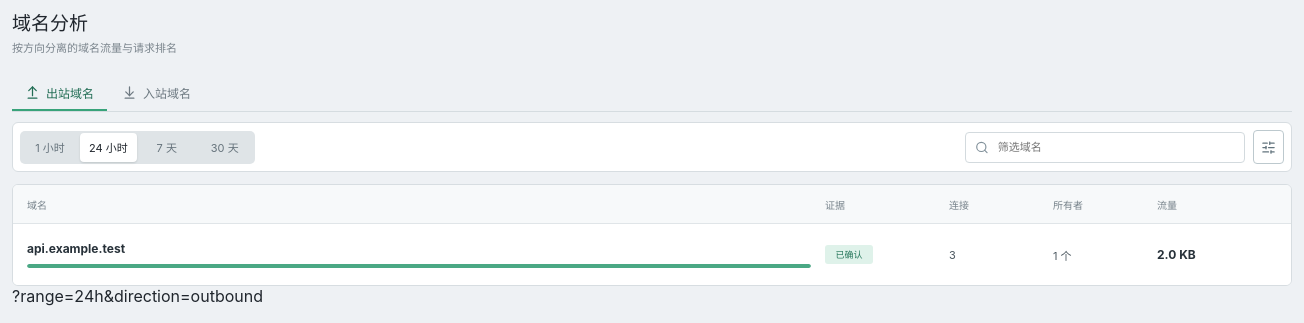
keeps inbound and outbound domain rankings isolated through URL filters
Expected: the text "api.example.test" is shown, 27,241 -> 125,256
Expected: the text "app.example.test" is not shown
Click the tab "入站域名" at coordinates (156, 93), box 109,75 -> 204,111
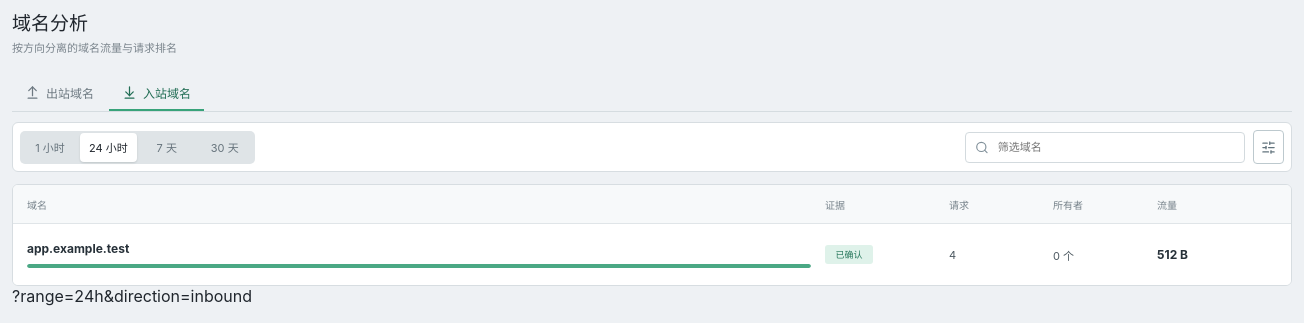
Now the text "app.example.test" is shown, box 27,241 -> 129,256
Now the button "api.example.test" is gone
